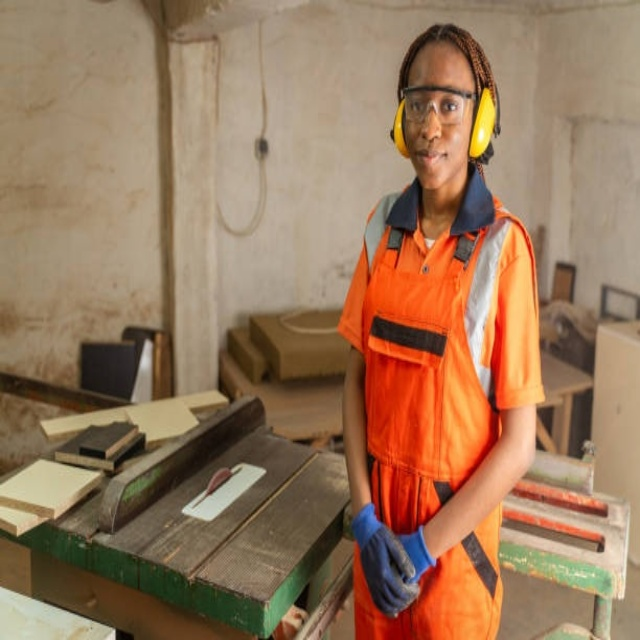Gafas: (400, 87, 473, 128)
Guantes: (350, 504, 430, 617)
Sin_mascara: (412, 141, 450, 179)
